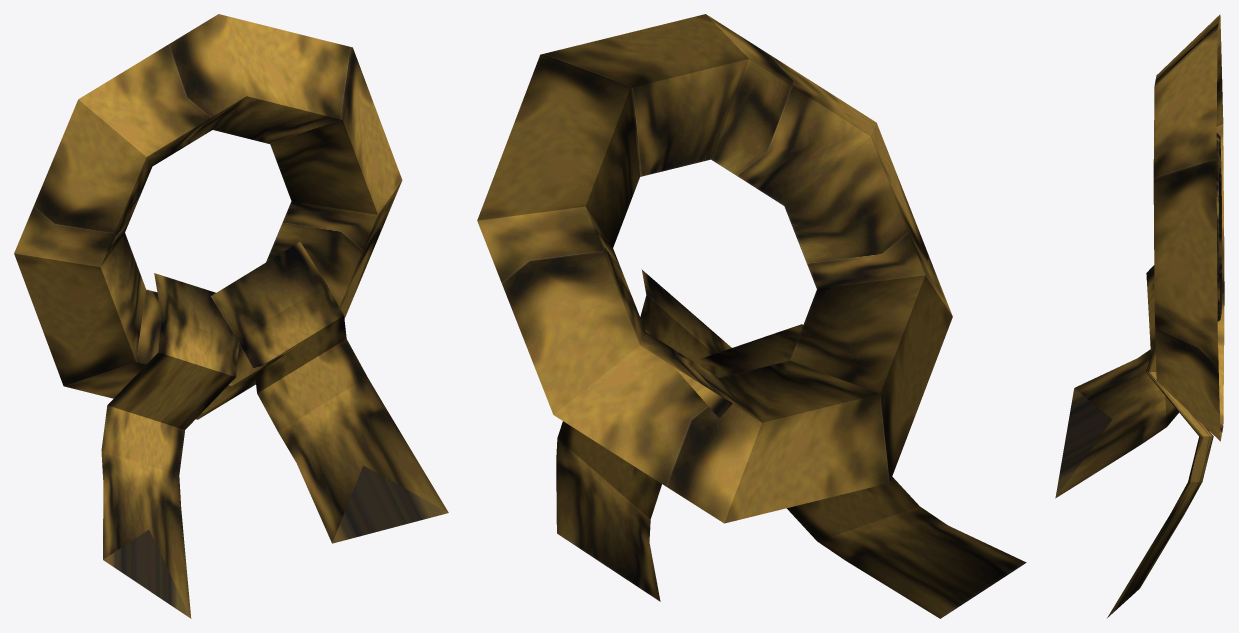
The model's file is Kranz [Braun]_79.glb.
3 renders of one model, left to right at view 1: azimuth 30°, elevation 25°; view 2: azimuth 150°, elevation 25°; view 3: azimuth 270°, elevation 25°, orthographic. The views are drawn at different scales.
Visible parts, largest first — view 1: pTorusShape4, pPlaneShape13, pPlaneShape14; view 2: pTorusShape4, pPlaneShape14, pPlaneShape13; view 3: pTorusShape4, pPlaneShape14, pPlaneShape13.
Part boxes in pixels (x1=…): pTorusShape4: x1=14, y1=14, x2=402, y2=419; pPlaneShape13: x1=211, y1=241, x2=448, y2=543; pPlaneShape14: x1=101, y1=273, x2=239, y2=618; pTorusShape4: x1=477, y1=14, x2=952, y2=523; pPlaneShape14: x1=699, y1=324, x2=1026, y2=618; pPlaneShape13: x1=556, y1=269, x2=732, y2=601; pTorusShape4: x1=1153, y1=14, x2=1224, y2=441; pPlaneShape14: x1=1055, y1=265, x2=1178, y2=498; pPlaneShape13: x1=1107, y1=341, x2=1213, y2=617.
Bounding box in the file's own units: 0.1456 × 0.1876 × 0.0551.
Materials: 3 (3 with a texture image).
